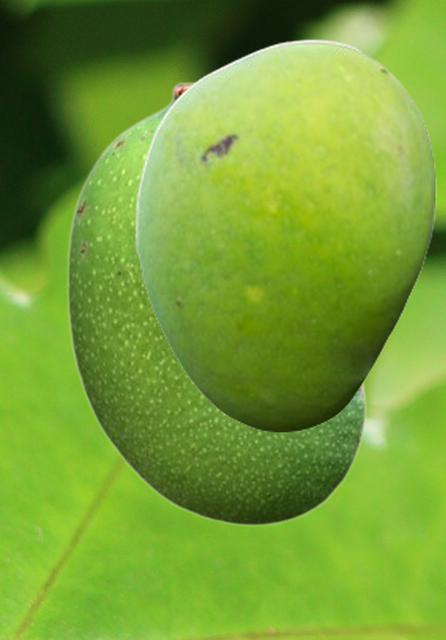green_mango: (65, 80, 370, 526), (134, 38, 435, 432)
